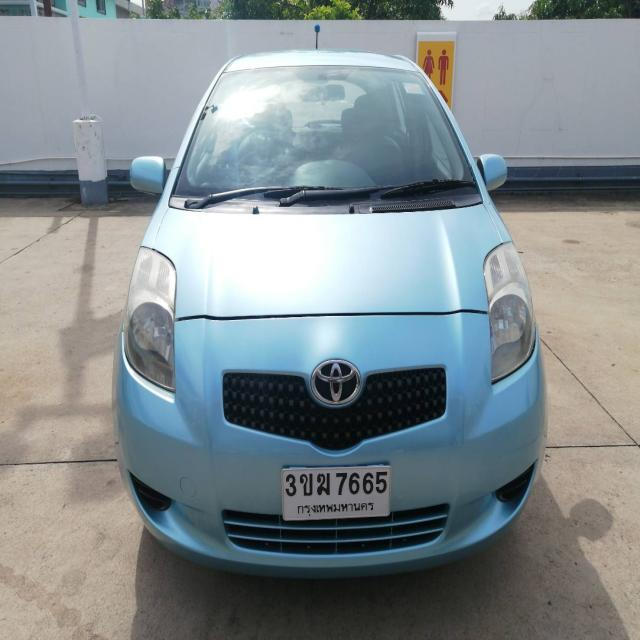license_plate: (277, 462, 396, 524)
